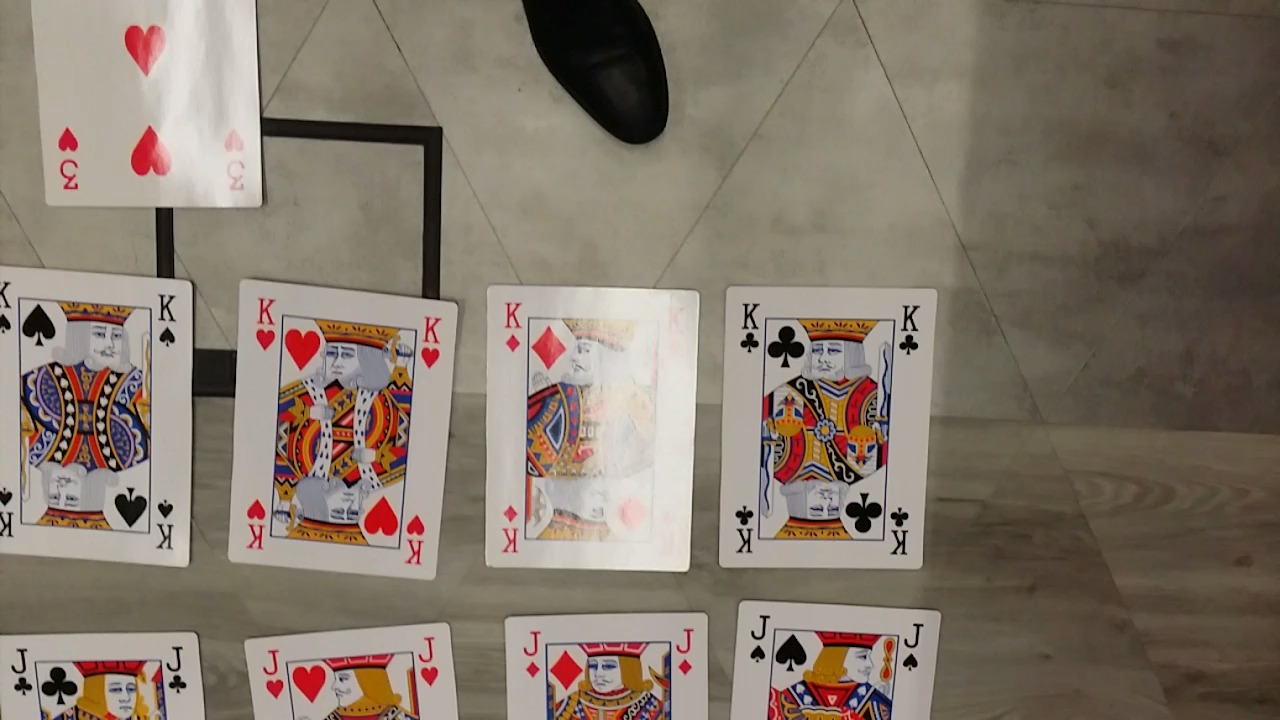10_diamond: (505, 615, 709, 720)
3_heart: (28, 0, 261, 211)
jack_club: (0, 632, 201, 720)
jack_heart: (242, 624, 452, 720)
jack_spade: (734, 599, 940, 720)
king_club: (713, 284, 944, 569)
king_diamond: (484, 284, 702, 573)
king_heart: (224, 275, 460, 580)
king_spade: (0, 255, 195, 566)
